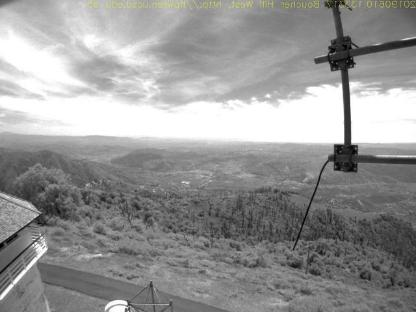smoke: (302, 155, 326, 183)
